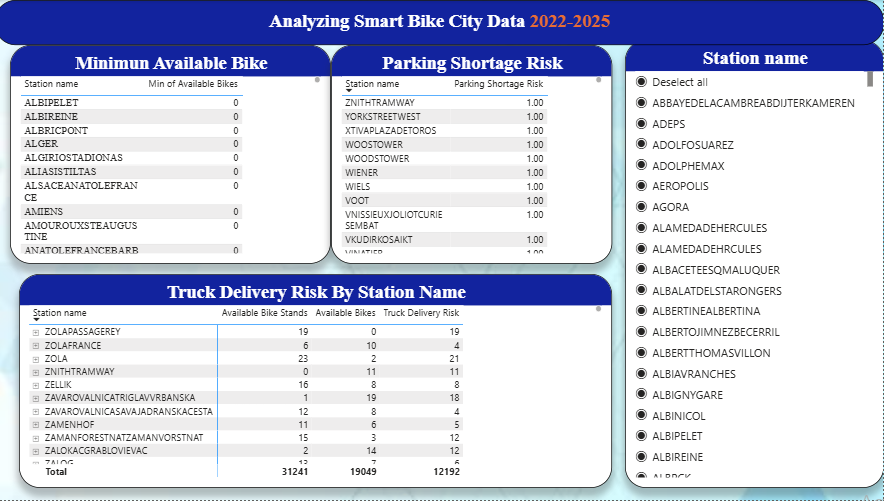

This screenshot's page, from the dashboard's own definition file:
{"tool":"powerbi","page":{"name":"Dashboard3","canvas":[1280,720],"ordinal":2},"visuals":[{"type":"tableEx","title":"Minimun Available Bike","fields":{"Values":["Data_Table.Station name","Min(Data_Table.Available Bikes)"]},"box":[21.6,64.8,462.2,315.4],"z":0},{"type":"tableEx","title":"Parking Shortage Risk ","fields":{"Values":["Data_Table.Station name","Measure Table.Parking Shortage Risk"]},"box":[483.8,64.8,404.6,315.4],"z":1000},{"type":"pivotTable","title":"Truck Delivery Risk By Station Name","fields":{"Rows":["Data_Table.Station name","Data_Table.Contract Name"],"Values":["Sum(Data_Table.Available Bike Stands)","Sum(Data_Table.Available Bikes)","Measure Table.Truck Delivery Risk"]},"box":[34.6,394.6,853.9,308.2],"z":2000},{"type":"listSlicer","fields":{"Values":["Data_Table.Station name"]},"box":[907.2,57.6,373,645.1],"z":3000},{"type":"textbox","box":[0,0,1280.2,64.8],"z":4000}]}

Visuals, with their boxes in screenshot pixels (x1, y1, x2, y2), scaled from the page's 1280x720 canvas onto the 884x501 screenshot:
"Minimun Available Bike" tableEx: locate(15, 45, 334, 265)
"Parking Shortage Risk " tableEx: locate(334, 45, 614, 265)
"Truck Delivery Risk By Station Name" pivotTable: locate(24, 275, 614, 489)
listSlicer - Data_Table.Station name: locate(627, 40, 883, 489)
textbox: locate(0, 0, 883, 45)
